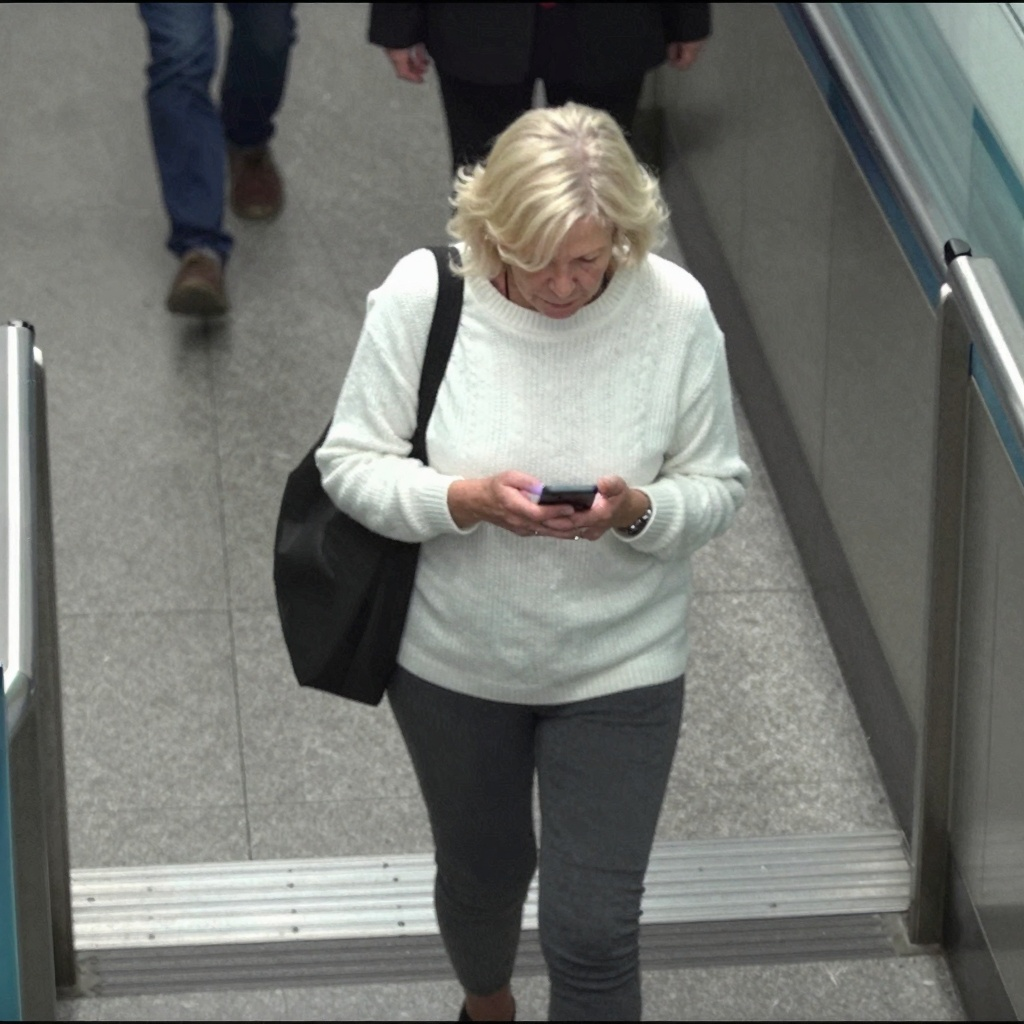Normal activity: (316, 100, 750, 1017), (367, 2, 712, 199), (138, 5, 298, 322)
